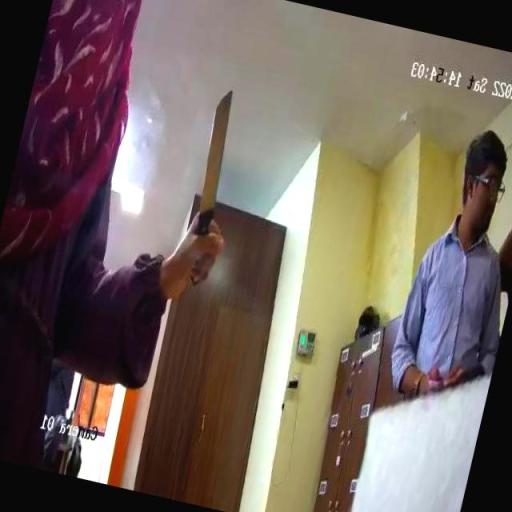knife: (168, 80, 254, 293)
